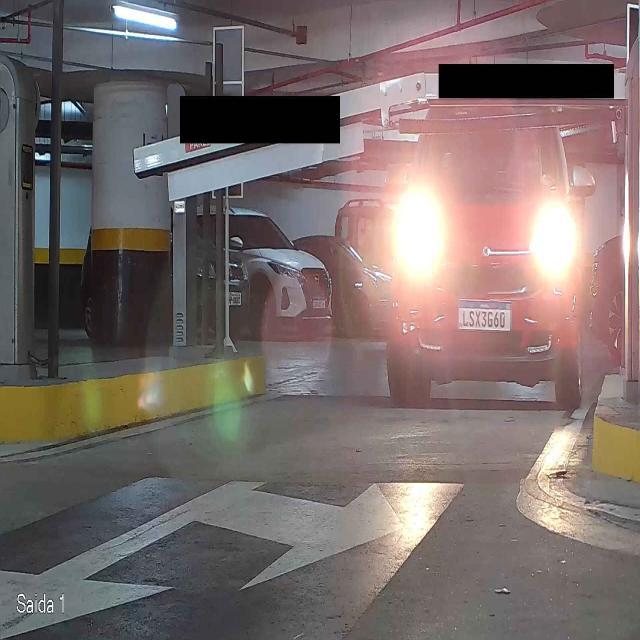mercosul_plate: (456, 299, 513, 333)
